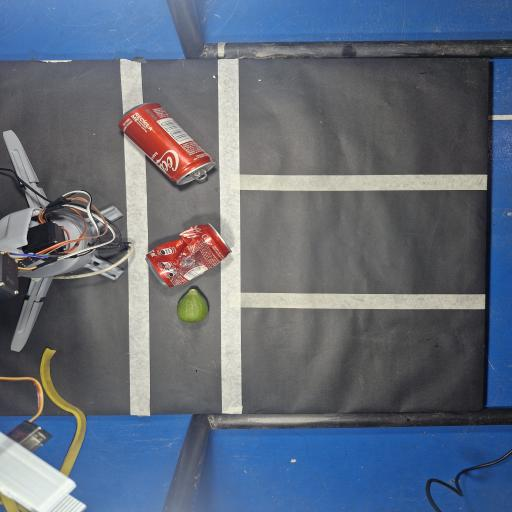higo: (177, 289, 208, 323)
lata: (119, 103, 215, 184)
lata_defectuoso: (146, 224, 231, 287)
